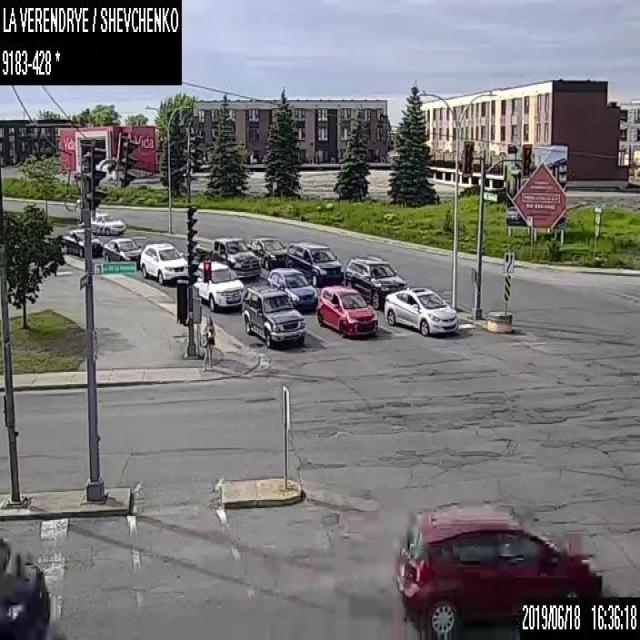pedestrian: (200, 314, 215, 370)
vehicle: (394, 504, 602, 636), (0, 533, 50, 639), (242, 285, 306, 346), (383, 286, 458, 336), (345, 254, 406, 308), (316, 285, 378, 336), (195, 236, 261, 280), (192, 260, 244, 310), (286, 240, 344, 284), (267, 266, 317, 309), (140, 241, 188, 284), (246, 236, 287, 268), (103, 237, 142, 267), (62, 228, 102, 256), (90, 210, 125, 233)
